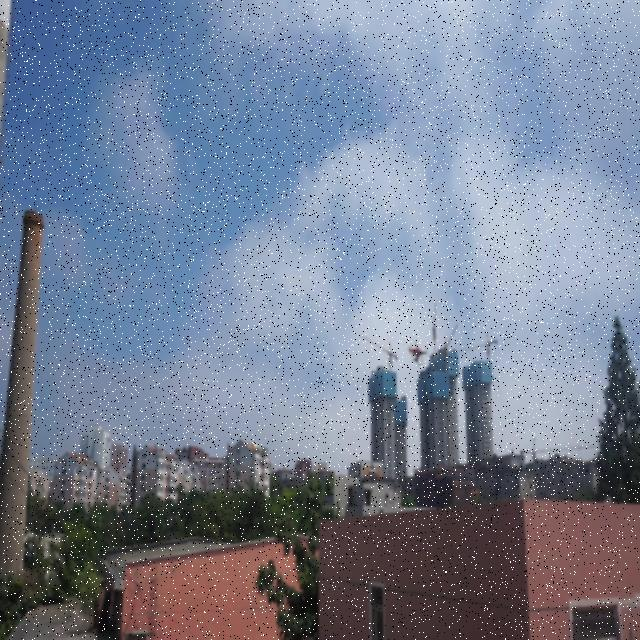UAV: (403, 338, 432, 366)
